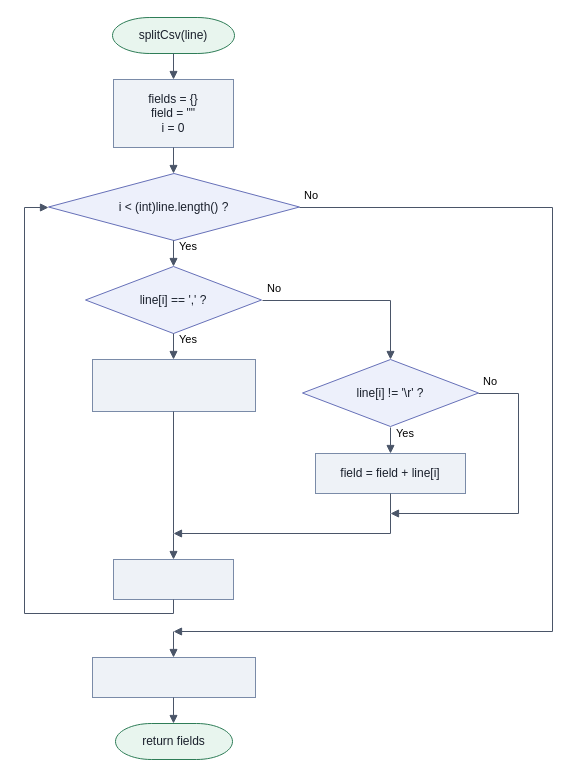
Image size: 578x777. Some labels were removed from this diagram. Here are the shapes that lost their labels. From the top down, the box of each, then its label:
(92, 358, 256, 412): fields.push_back(field) field = ""
(112, 558, 234, 600): i = i + 1
(92, 656, 256, 698): fields.push_back(field)
